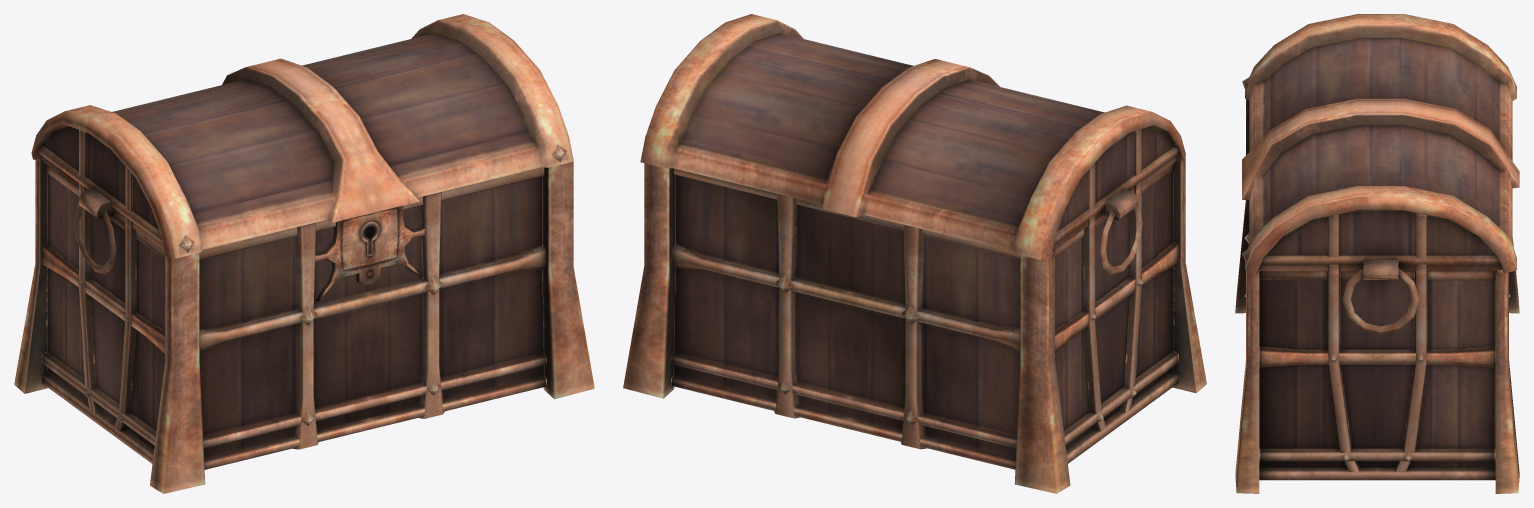
File: treasureChest.FBX
3 views of the same model, side by side, from view 1: azimuth 30°, elevation 25°; view 2: azimuth 150°, elevation 25°; view 3: azimuth 270°, elevation 25° (orthographic). The views are drawn at different scales.
Parts seen in each view (by area): view 1: treasurechest; view 2: treasurechest; view 3: treasurechest.
Boxes of the visible parts, x1=… form: treasurechest: x1=14, y1=14, x2=594, y2=493; treasurechest: x1=623, y1=14, x2=1206, y2=493; treasurechest: x1=1235, y1=14, x2=1519, y2=493.
Size of the model in its own units: 58.28 by 39.13 by 35.02.
